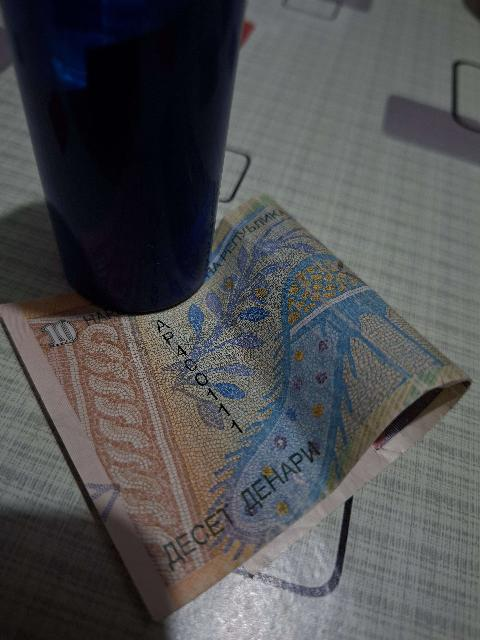note: (3, 194, 468, 615)
